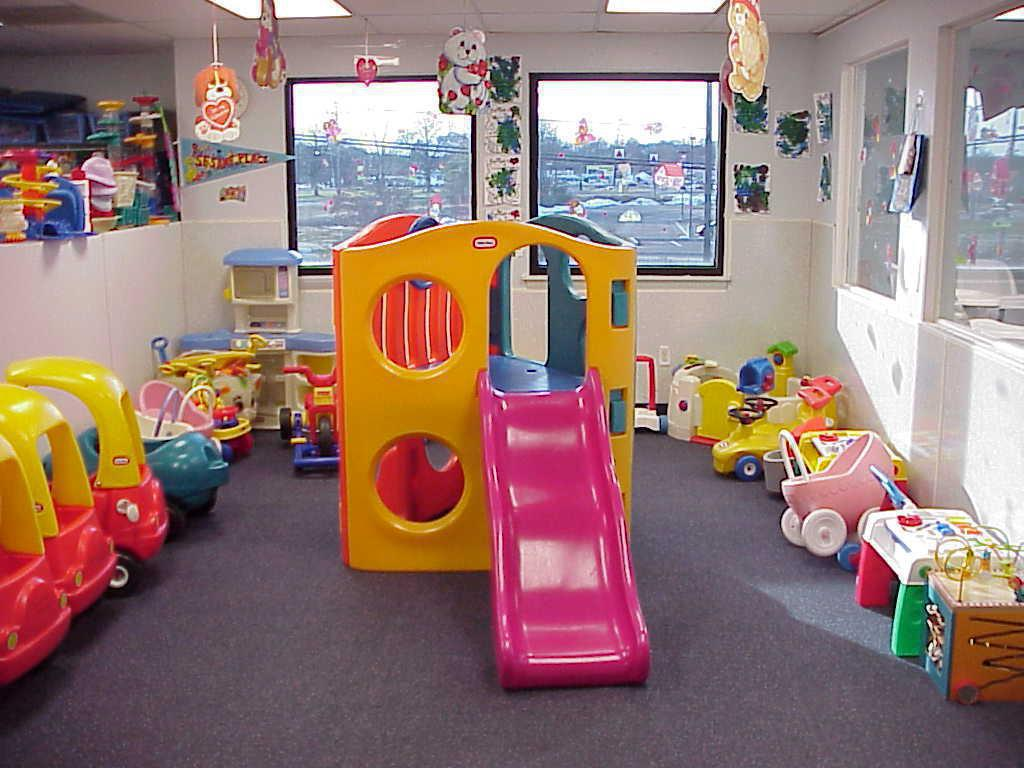Otro Obstaculo: (328, 223, 675, 694), (9, 363, 164, 592), (850, 494, 1014, 672), (7, 410, 133, 627), (88, 416, 233, 543), (768, 420, 890, 560), (681, 346, 810, 453), (938, 566, 1023, 717), (726, 390, 840, 473), (274, 368, 340, 476)
Ventana: (529, 79, 723, 281), (290, 86, 473, 279), (948, 33, 1023, 366), (846, 65, 904, 298)
